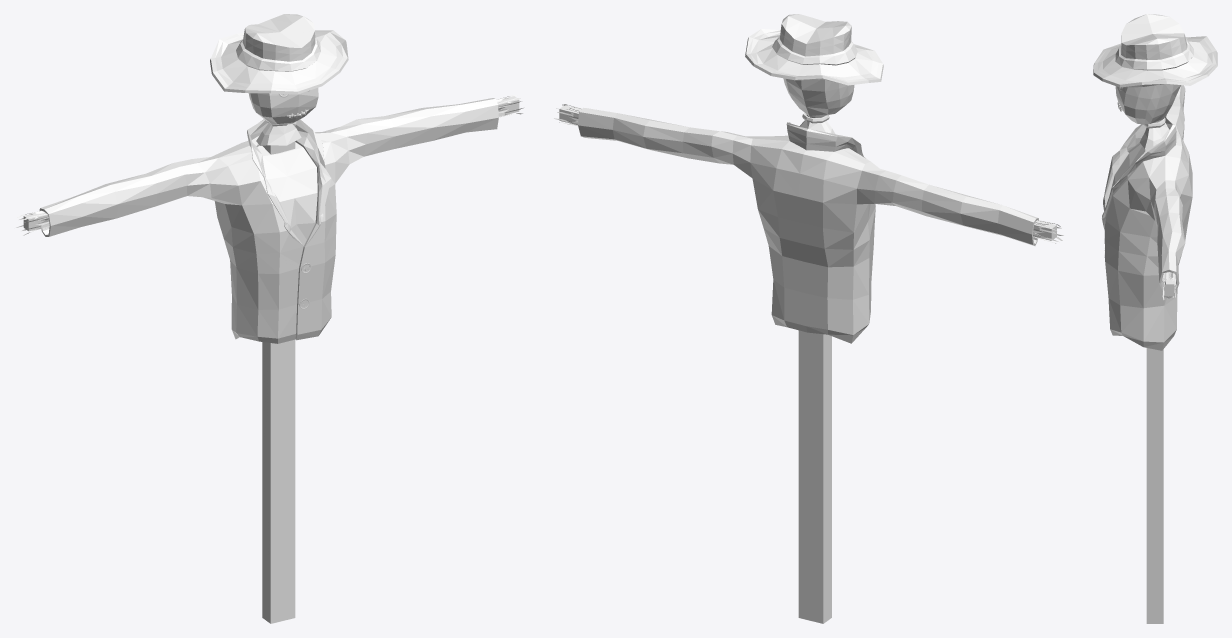
The model's file is Prop_Scarecrow_05.glb.
The picture shows the model from 3 angles, left to right: view 1: azimuth 30°, elevation 25°; view 2: azimuth 150°, elevation 25°; view 3: azimuth 270°, elevation 25°; orthographic projection.
Parts seen in each view (by area): view 1: Prop_Scarecrow_05; view 2: Prop_Scarecrow_05; view 3: Prop_Scarecrow_05.
Part boxes in pixels (<box>): Prop_Scarecrow_05: <box>16,14,523,623</box>; Prop_Scarecrow_05: <box>554,14,1064,623</box>; Prop_Scarecrow_05: <box>1093,14,1217,623</box>.
Size of the model in its own units: 1.98 by 2.23 by 0.4238.
Materials: 1 (1 with a texture image).
